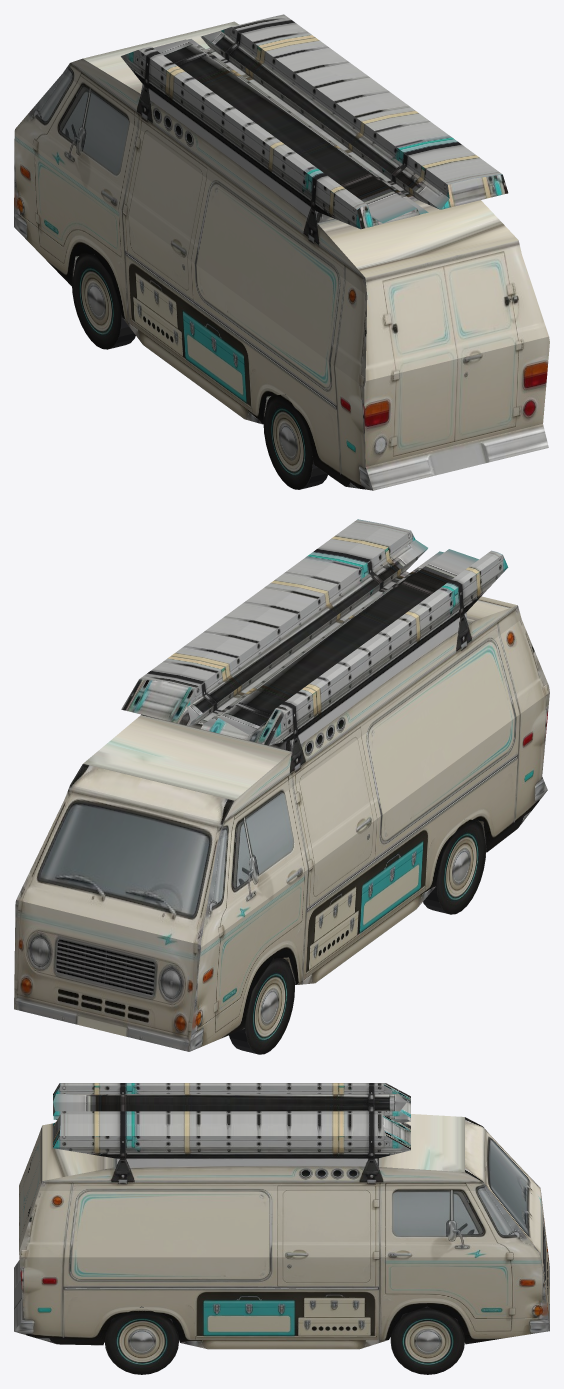
The model's file is service_van.glb.
3 renders of one model, top to bottom at view 1: azimuth 30°, elevation 25°; view 2: azimuth 150°, elevation 25°; view 3: azimuth 270°, elevation 25°, orthographic. The views are drawn at different scales.
Visible parts, largest first — view 1: service_van, wheel_FL, wheel_BL; view 2: service_van, wheel_FL, wheel_BL; view 3: service_van, wheel_FR, wheel_BR.
Part boxes in pixels (x1,y1,x2,y2): service_van: (14,14,549,490); wheel_FL: (72,254,135,349); wheel_BL: (263,394,327,489); service_van: (14,519,549,1051); wheel_FL: (229,958,294,1054); wheel_BL: (423,819,486,914); service_van: (14,1083,549,1349); wheel_FR: (390,1306,464,1374); wheel_BR: (104,1306,178,1374).
Size of the model in its own units: 1.76 by 2.85 by 5.88.
3 materials, 1 textured.
